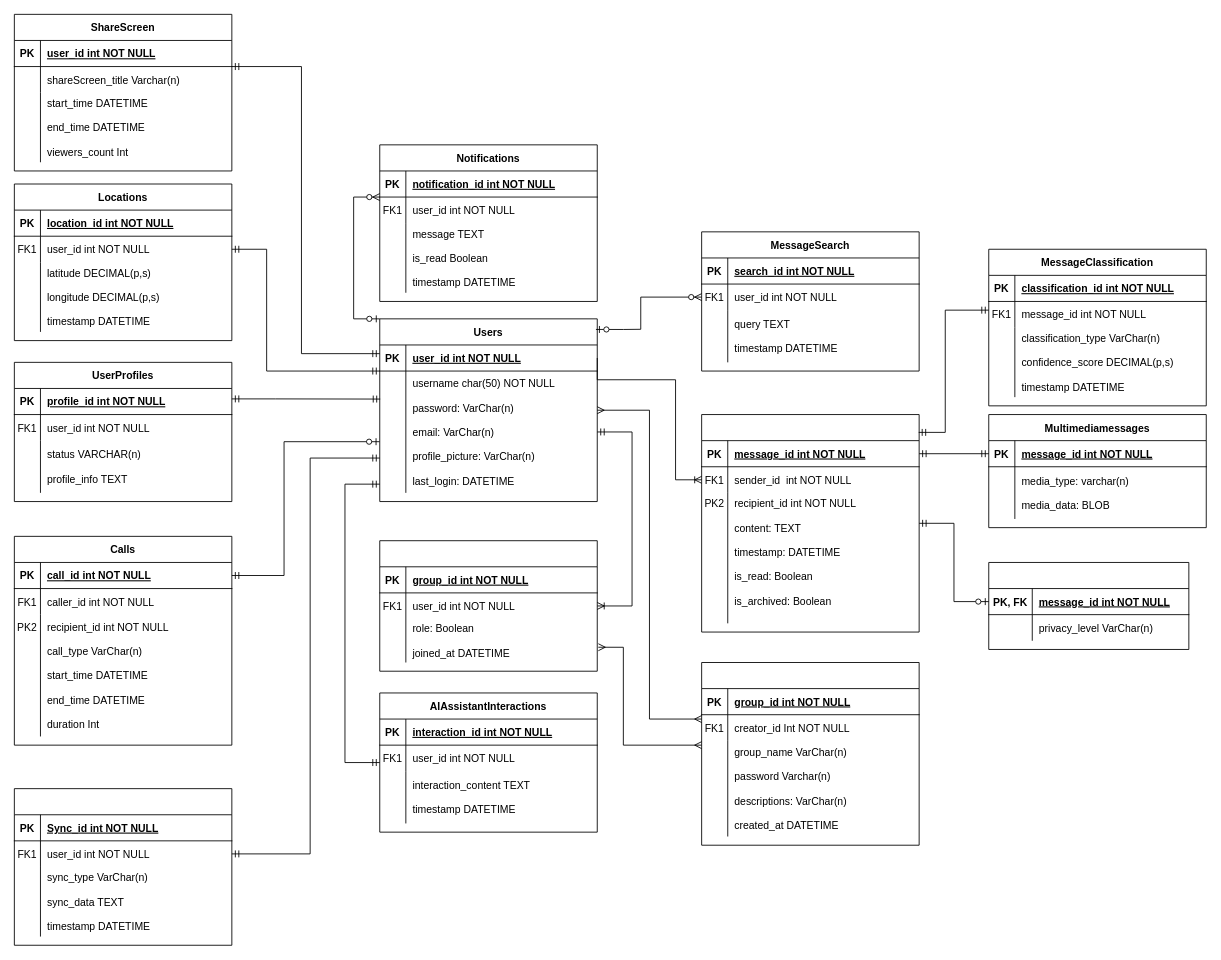
The diagram is 1221 pixels wide and 960 high, and some of its shapes have lost their labels. The shapes that lost their labels are listed below. From the top down, each one's box as (x1, y1, x2, y2) in pixels, then its label:
(701, 414, 919, 632): Messages
(379, 540, 597, 671): GroupMembers
(988, 562, 1189, 649): MessagePrivacy
(701, 662, 919, 845): Groups
(13, 788, 232, 945): DataSync
